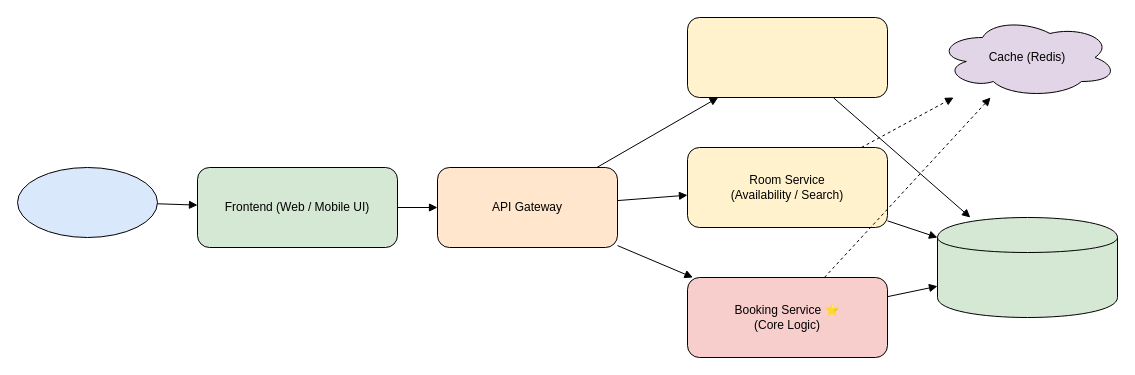
Image size: 1135x375. Some labels were removed from this diagram. Here are the shapes that lost their labels. From the top down, the centre of each, then its label:
At [787,57]: "User Service (Auth / Profile)".
At [87,202]: "User / Client".
At [1027,267]: "Database (MySQL)".
